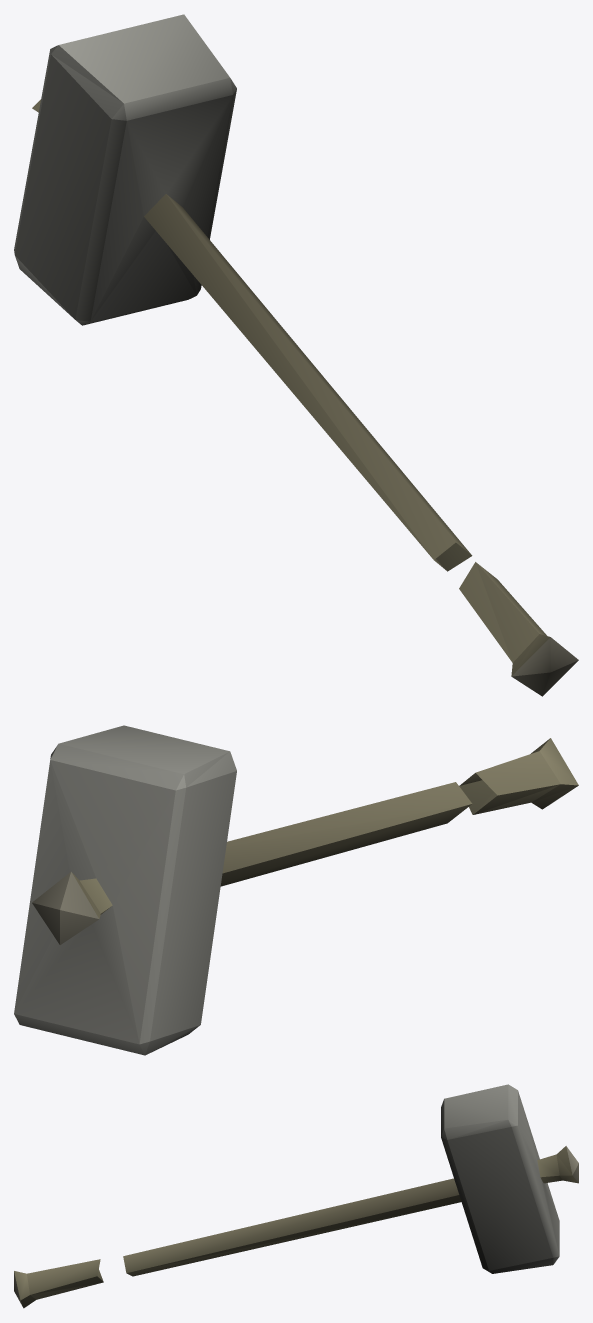
The model's file is granite_maul.glb.
3 renders of one model, top to bottom at view 1: azimuth 30°, elevation 25°; view 2: azimuth 150°, elevation 25°; view 3: azimuth 270°, elevation 25°, orthographic. The views are drawn at different scales.
Visible parts, largest first — view 1: Granite maul; view 2: Granite maul; view 3: Granite maul.
Boxes of the visible parts, <box> form: Granite maul: <box>14,14,578,696</box>; Granite maul: <box>14,725,578,1055</box>; Granite maul: <box>14,1084,578,1308</box>.
Size of the model in its own units: 28 by 71 by 176.
